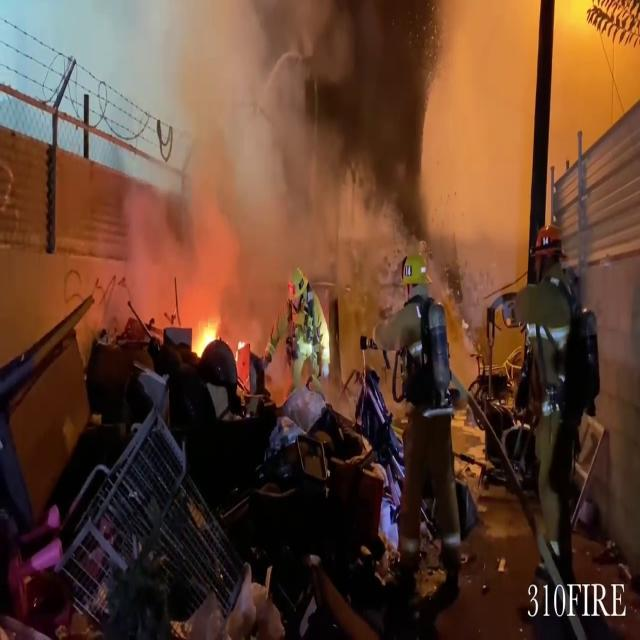Fire: (188, 307, 224, 363)
Smoke: (133, 0, 407, 304)
